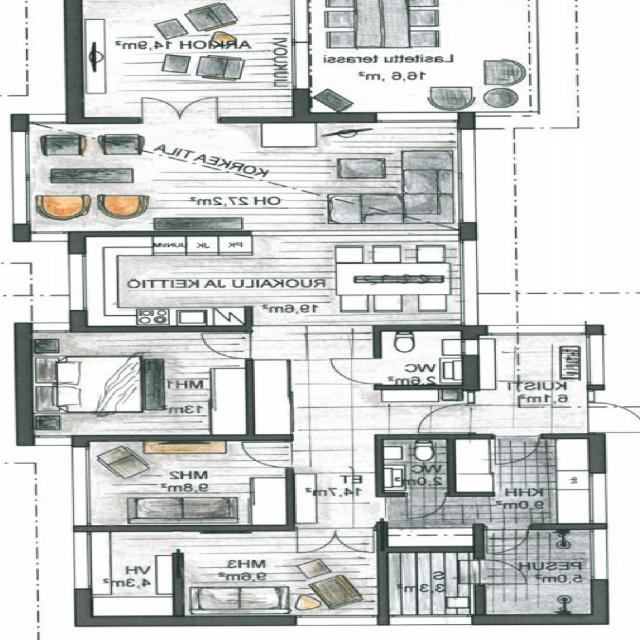door: (419, 404, 475, 432), (591, 402, 640, 432), (496, 434, 540, 465), (332, 358, 382, 384), (243, 442, 294, 467), (202, 333, 253, 358), (474, 560, 526, 583), (487, 523, 528, 552), (335, 523, 373, 551), (297, 523, 335, 551), (180, 95, 218, 123), (142, 95, 180, 123), (407, 492, 445, 519)
